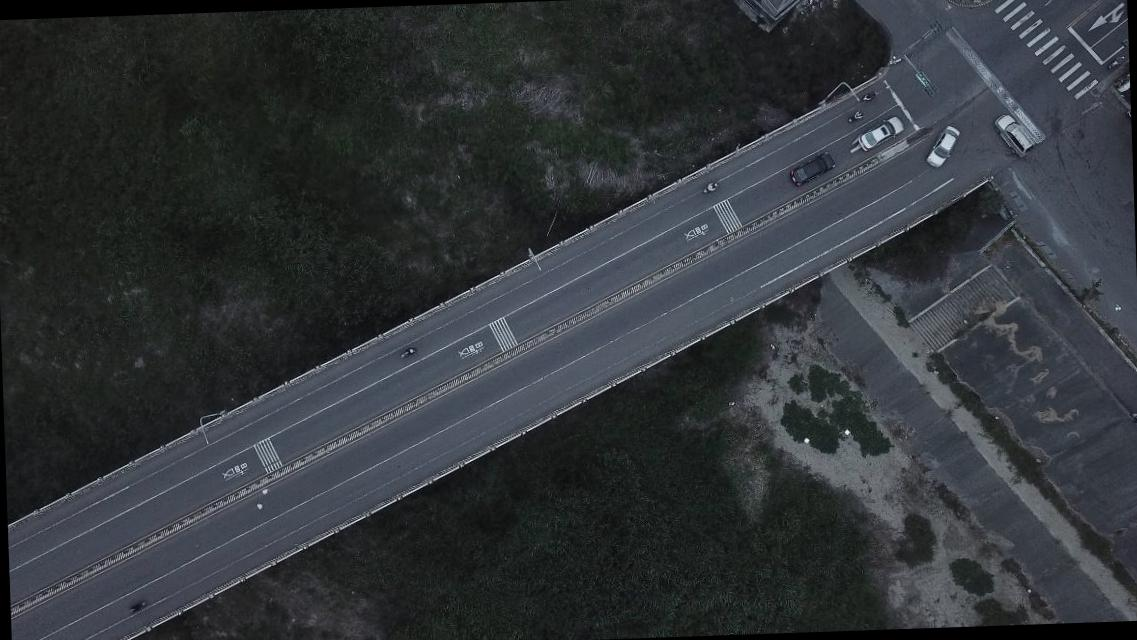vehicle: (994, 110, 1033, 157), (855, 114, 903, 151), (789, 152, 836, 188), (924, 125, 960, 167)
